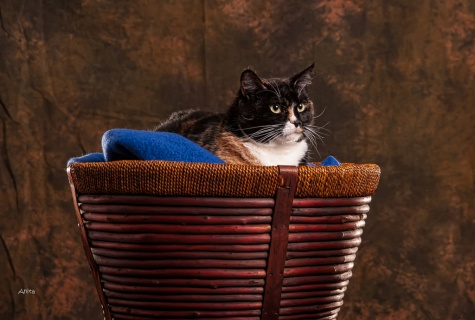Cat: (152, 59, 332, 166)
